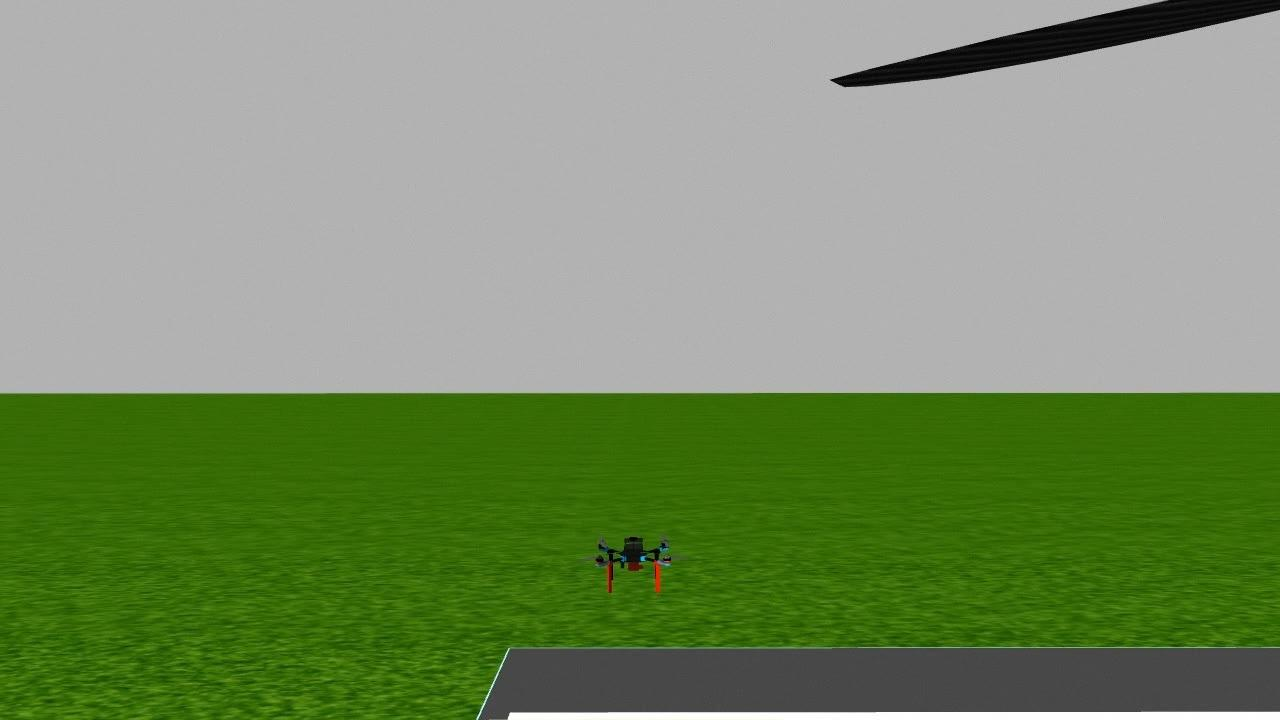UAV: (573, 528, 697, 599)
